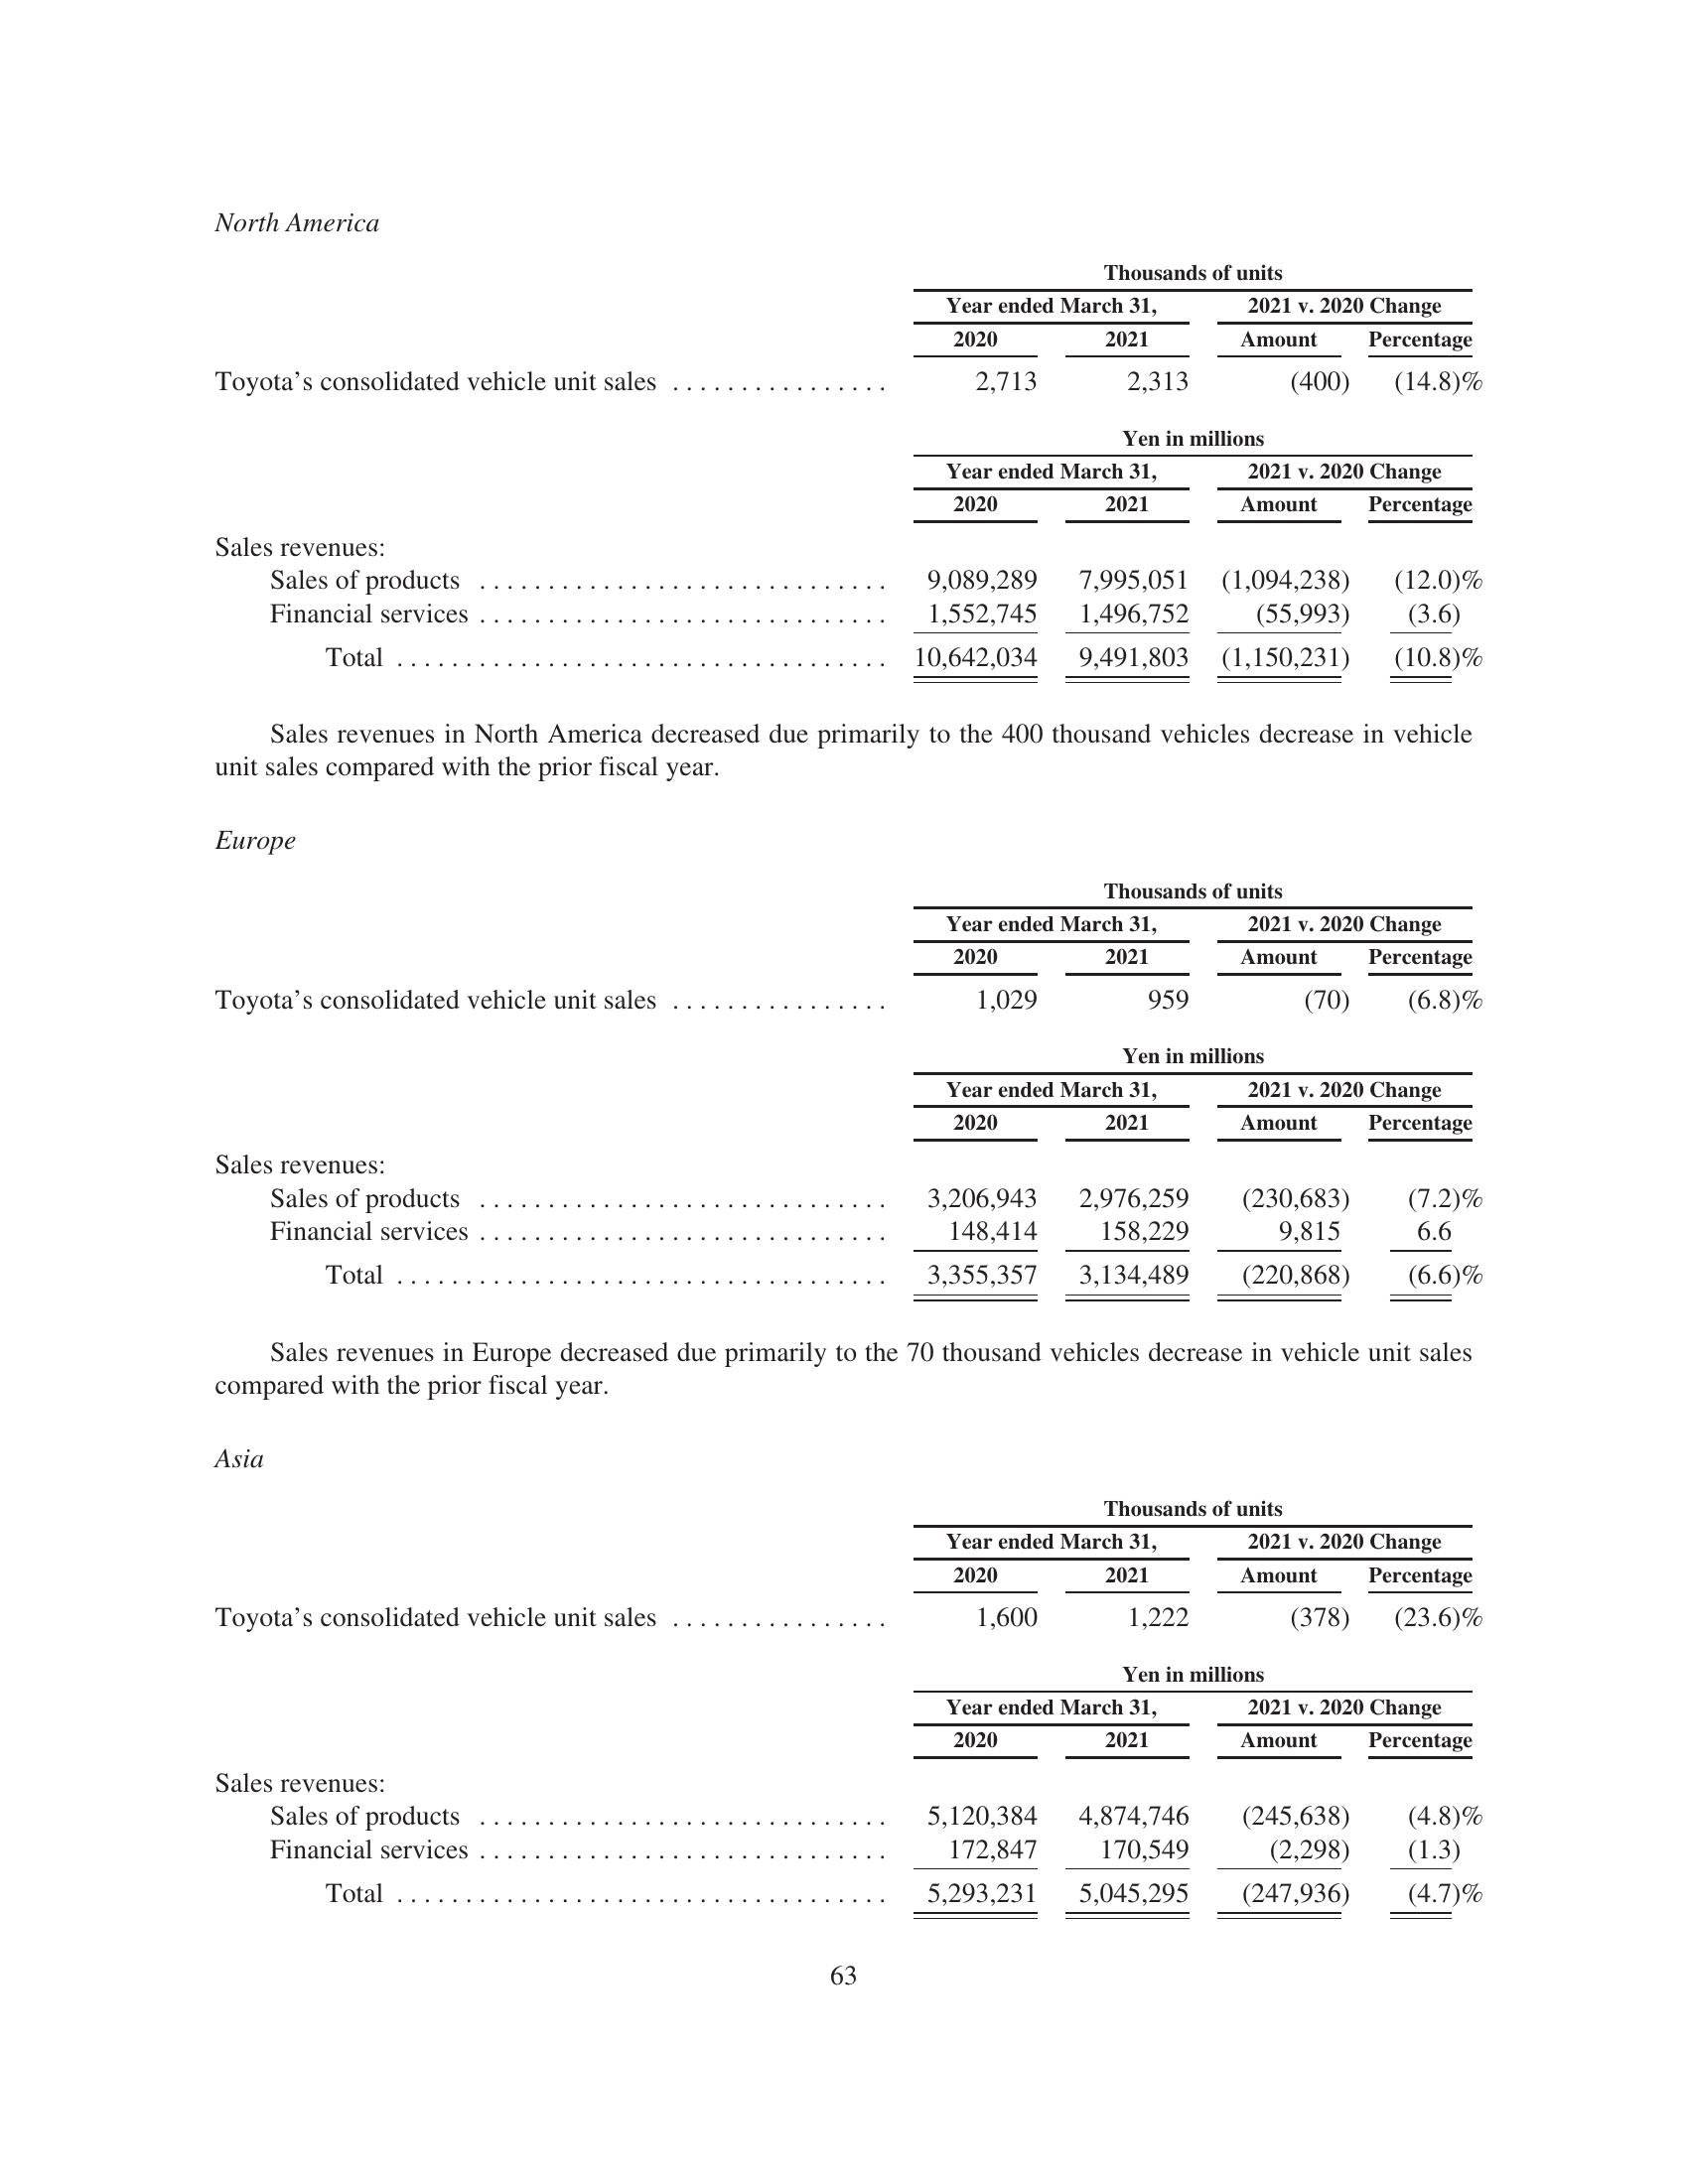Footer: (0, 1950, 1688, 2184)
Header: (0, 0, 1688, 188)
Table: (163, 422, 1509, 714), (160, 1030, 1534, 1315), (167, 1661, 1521, 1946), (163, 234, 1518, 409), (145, 851, 1537, 1018), (163, 1482, 1525, 1643)
